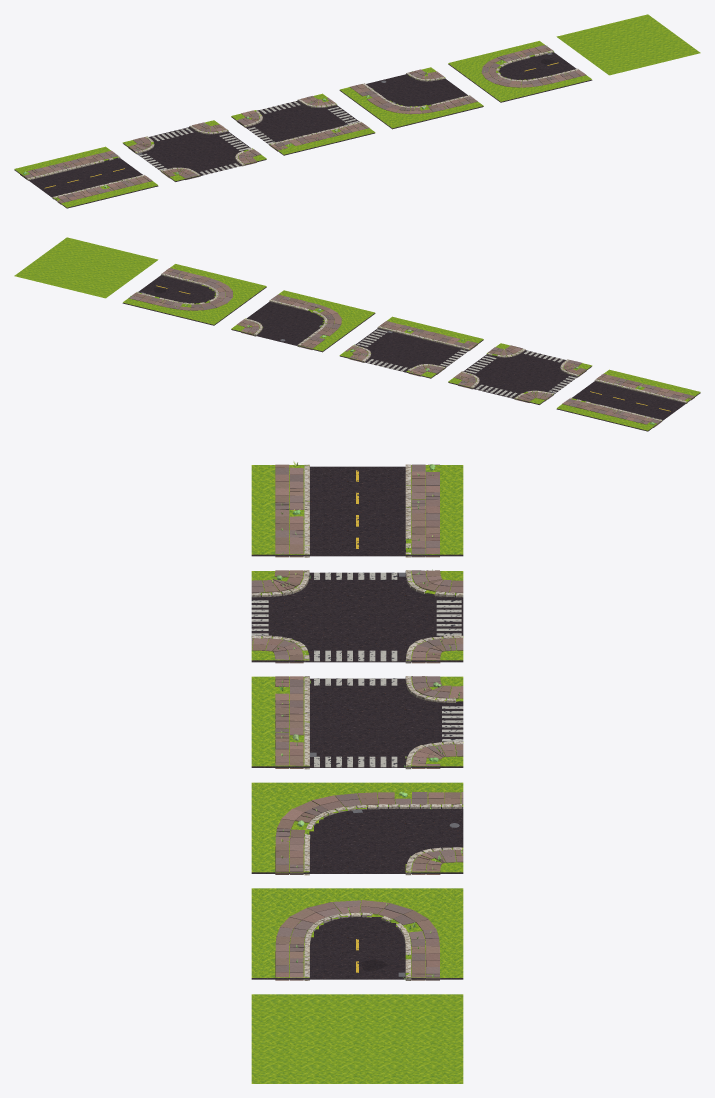
Rendered from street_tiles.glb.
The picture shows the model from 3 angles, top to bottom: view 1: azimuth 30°, elevation 25°; view 2: azimuth 150°, elevation 25°; view 3: azimuth 270°, elevation 25°; orthographic projection. The views are drawn at different scales.
Parts seen in each view (by area): view 1: street_lot_grass, street_cross_road_asphalt, street_tee_road_asphalt, street_straight_road_asphalt, street_corner_road_asphalt, street_deadend_lots, street_deadend_road_asphalt, street_corner_lots, street_straight_sidewalk, street_deadend_sidewalk, street_straight_lots, street_corner_sidewalk (+11 smaller); view 2: street_lot_grass, street_cross_road_asphalt, street_tee_road_asphalt, street_straight_road_asphalt, street_corner_road_asphalt, street_deadend_lots, street_deadend_road_asphalt, street_corner_lots, street_straight_sidewalk, street_deadend_sidewalk, street_straight_lots, street_corner_sidewalk (+11 smaller); view 3: street_lot_grass, street_cross_road_asphalt, street_tee_road_asphalt, street_straight_road_asphalt, street_deadend_lots, street_corner_road_asphalt, street_corner_lots, street_deadend_road_asphalt, street_straight_lots, street_deadend_sidewalk, street_straight_sidewalk, street_corner_sidewalk (+11 smaller).
Part boxes in pixels (x1,y1,x2,y2): street_lot_grass: (556, 14, 700, 75); street_cross_road_asphalt: (123, 127, 266, 181); street_tee_road_asphalt: (231, 100, 374, 155); street_straight_road_asphalt: (14, 158, 158, 208); street_corner_road_asphalt: (339, 74, 483, 129); street_deadend_lots: (448, 41, 591, 101); street_deadend_road_asphalt: (448, 52, 592, 102); street_corner_lots: (340, 67, 483, 128); street_straight_sidewalk: (20, 150, 152, 204); street_deadend_sidewalk: (481, 45, 586, 87); street_straight_lots: (14, 146, 158, 207); street_corner_sidewalk: (350, 69, 477, 114); street_lot_grass: (14, 237, 158, 298); street_cross_road_asphalt: (448, 350, 591, 404); street_tee_road_asphalt: (340, 328, 483, 378); street_straight_road_asphalt: (556, 381, 700, 431); street_corner_road_asphalt: (231, 302, 375, 352); street_deadend_lots: (123, 264, 266, 324); street_deadend_road_asphalt: (122, 275, 266, 325); street_corner_lots: (231, 290, 374, 351); street_straight_sidewalk: (562, 373, 694, 427); street_deadend_sidewalk: (128, 268, 232, 310); street_straight_lots: (556, 369, 700, 430); street_corner_sidewalk: (237, 294, 341, 349); street_lot_grass: (251, 994, 463, 1083); street_cross_road_asphalt: (251, 572, 463, 662); street_tee_road_asphalt: (251, 678, 463, 767); street_straight_road_asphalt: (251, 466, 463, 556); street_deadend_lots: (251, 888, 463, 977); street_corner_road_asphalt: (251, 807, 463, 873); street_corner_lots: (251, 782, 463, 872); street_deadend_road_asphalt: (251, 915, 463, 979); street_straight_lots: (251, 465, 463, 554); street_deadend_sidewalk: (275, 900, 439, 980); street_straight_sidewalk: (275, 464, 439, 557); street_corner_sidewalk: (275, 792, 463, 874).
Bounding box in the file's own units: 152 × 0.9432 × 22.
Materials: 9 (7 with a texture image).
